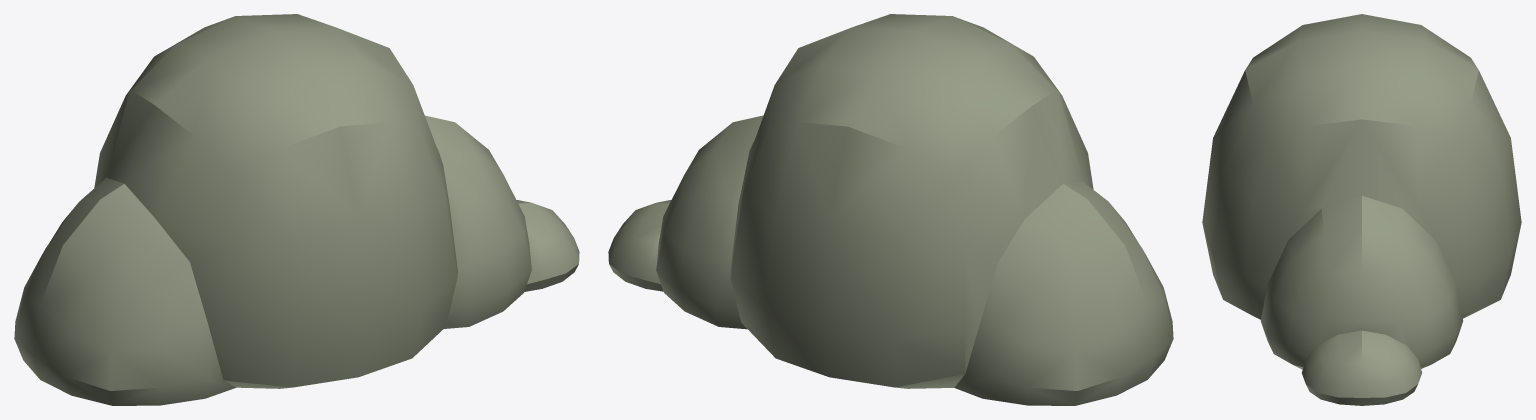
The model's file is cloud-small.glb.
3 renders of one model, left to right at view 1: azimuth 30°, elevation 25°; view 2: azimuth 150°, elevation 25°; view 3: azimuth 270°, elevation 25°, orthographic. The views are drawn at different scales.
Parts seen in each view (by area): view 1: cloud-small; view 2: cloud-small; view 3: cloud-small.
Part boxes in pixels (x1,y1,x2,y2): cloud-small: (14, 14, 579, 405); cloud-small: (608, 14, 1173, 405); cloud-small: (1202, 14, 1521, 405).
Bounding box in the file's own units: 5.85 × 3.16 × 3.49.
Materials: 1 (1 with a texture image).
